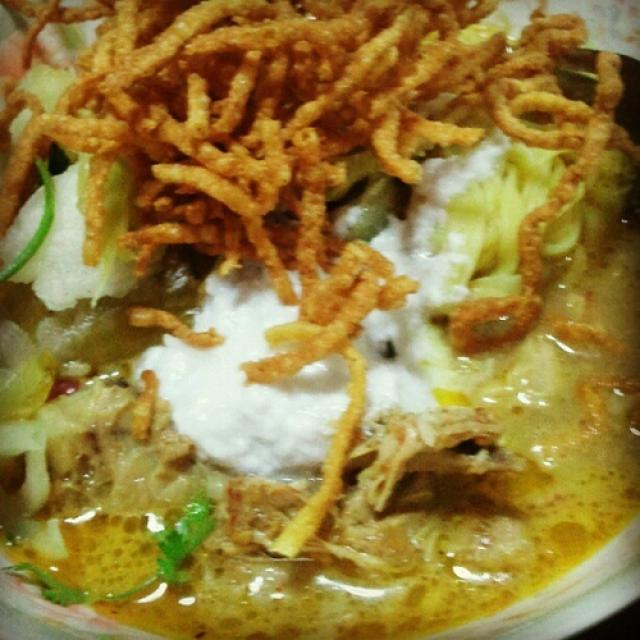面条主食: (5, 10, 638, 631)
